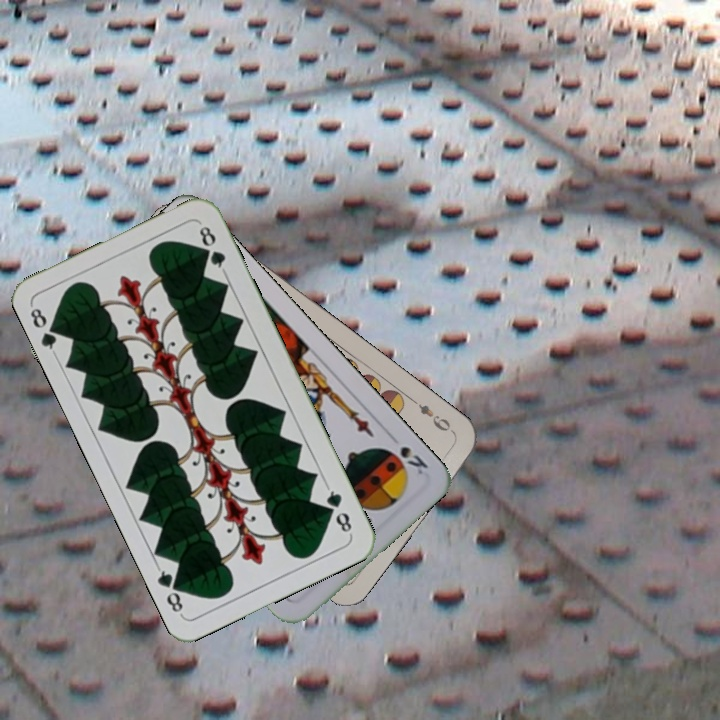E9: (407, 395, 457, 437)
G8: (25, 302, 65, 358), (321, 482, 355, 538)
SK: (396, 442, 431, 478)
